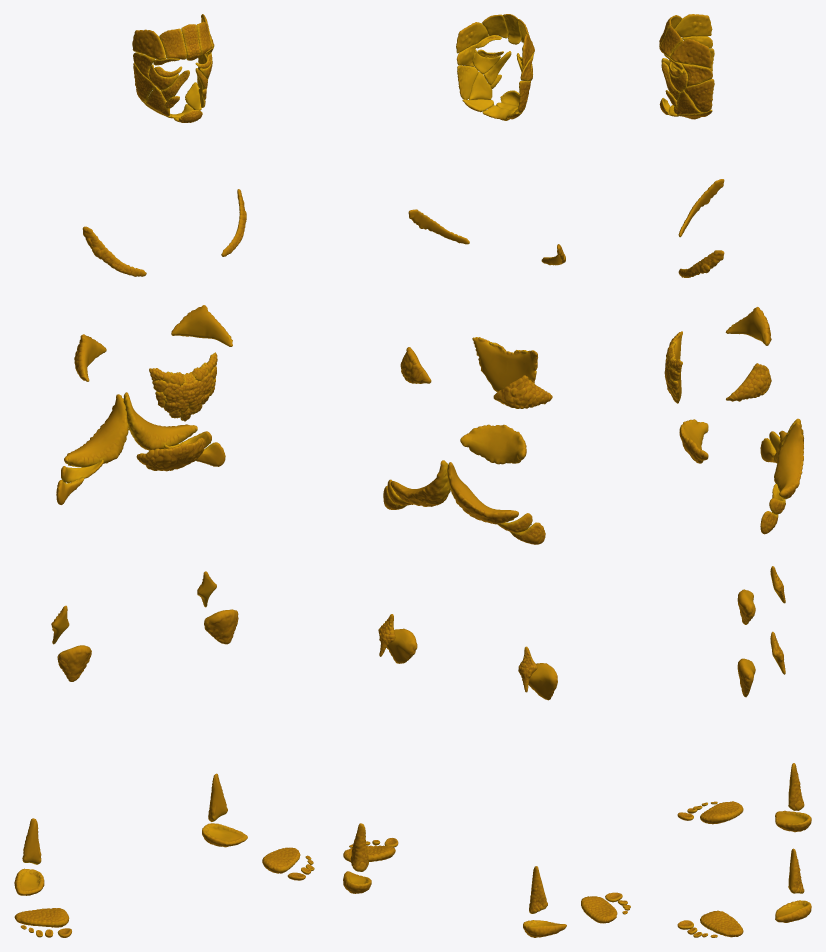
Rendered from fat.glb.
3 renders of one model, left to right at view 1: azimuth 30°, elevation 25°; view 2: azimuth 150°, elevation 25°; view 3: azimuth 270°, elevation 25°, orthographic. The views are drawn at different scales.
Visible parts, largest first — view 1: Abdominal_Fat_Pad_m, Posterior_Gluteal_r, Foot_Fat_Pads_r, Foot_Fat_Pads_l, Posterior_Gluteal_l, Pubic_Fat_Pad_m, Flank_l, Infrapatellar_Fat_Pad_l, Chest_Fat_Pad_r, Infrapatellar_Fat_Pad_r, Flank_r, Lateral_Temporal_r (+2 smaller); view 2: Abdominal_Fat_Pad_m, Pubic_Fat_Pad_m, Foot_Fat_Pads_r, Posterior_Gluteal_r, Posterior_Gluteal_l, Flank_r, Foot_Fat_Pads_l, Infrapatellar_Fat_Pad_r, Infrapatellar_Fat_Pad_l, Flank_l, Chest_Fat_Pad_l, Fat_Kagers_l (+1 smaller); view 3: Foot_Fat_Pads_l, Posterior_Gluteal_l, Foot_Fat_Pads_r, Abdominal_Fat_Pad_m, Flank_l, Pubic_Fat_Pad_m, Flank_r, Lateral_Temporal_l, Lateral_Temporal_r, Middle_Cheek_l, Chest_Fat_Pad_l, Fat_Kagers_r (+7 smaller).
Boxes of the visible parts, left/top/right/bottom form: Abdominal_Fat_Pad_m: left=149, top=352, right=217, bottom=421; Posterior_Gluteal_r: left=64, top=394, right=128, bottom=467; Foot_Fat_Pads_r: left=14, top=868, right=71, bottom=937; Foot_Fat_Pads_l: left=202, top=823, right=314, bottom=880; Posterior_Gluteal_l: left=123, top=392, right=197, bottom=450; Pubic_Fat_Pad_m: left=136, top=437, right=205, bottom=471; Flank_l: left=171, top=305, right=232, bottom=346; Infrapatellar_Fat_Pad_l: left=204, top=609, right=238, bottom=644; Chest_Fat_Pad_r: left=82, top=226, right=146, bottom=276; Infrapatellar_Fat_Pad_r: left=57, top=645, right=91, bottom=681; Flank_r: left=74, top=334, right=106, bottom=381; Lateral_Temporal_r: left=132, top=29, right=166, bottom=59; Abdominal_Fat_Pad_m: left=472, top=337, right=537, bottom=392; Pubic_Fat_Pad_m: left=460, top=424, right=526, bottom=464; Foot_Fat_Pads_r: left=523, top=892, right=630, bottom=937; Posterior_Gluteal_r: left=447, top=462, right=518, bottom=524; Posterior_Gluteal_l: left=390, top=460, right=450, bottom=506; Flank_r: left=493, top=375, right=552, bottom=408; Foot_Fat_Pads_l: left=343, top=838, right=398, bottom=893; Infrapatellar_Fat_Pad_r: left=528, top=663, right=557, bottom=700; Infrapatellar_Fat_Pad_l: left=386, top=628, right=417, bottom=663; Flank_l: left=400, top=347, right=431, bottom=383; Chest_Fat_Pad_l: left=408, top=209, right=469, bottom=244; Fat_Kagers_l: left=350, top=823, right=368, bottom=871; Foot_Fat_Pads_l: left=677, top=900, right=811, bottom=937; Posterior_Gluteal_l: left=774, top=422, right=803, bottom=499; Foot_Fat_Pads_r: left=677, top=801, right=811, bottom=832; Abdominal_Fat_Pad_m: left=664, top=331, right=682, bottom=403; Flank_l: left=726, top=363, right=771, bottom=401; Pubic_Fat_Pad_m: left=679, top=419, right=708, bottom=463; Flank_r: left=725, top=307, right=771, bottom=345; Lateral_Temporal_l: left=670, top=39, right=712, bottom=67; Lateral_Temporal_r: left=674, top=14, right=712, bottom=37; Middle_Cheek_l: left=684, top=78, right=714, bottom=112; Chest_Fat_Pad_l: left=678, top=250, right=724, bottom=277; Fat_Kagers_r: left=788, top=763, right=804, bottom=810.
Size of the model in its own units: 0.5964 by 1.76 by 0.2835.
1 material, 1 textured.
